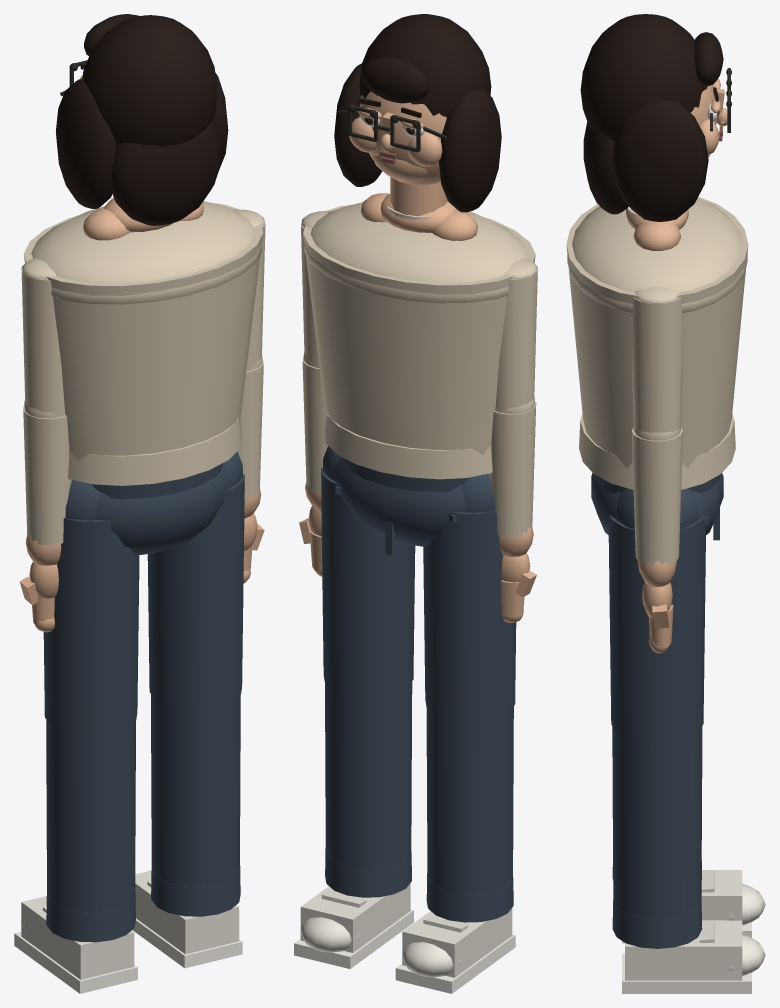
Rendered from female_1.glb.
3 views of the same model, side by side, from view 1: azimuth 30°, elevation 25°; view 2: azimuth 150°, elevation 25°; view 3: azimuth 270°, elevation 25° (orthographic). The views are drawn at different scales.
Parts seen in each view (by area): view 1: Mesh_Torso, Mesh_Hair, Mesh_ThighR, Mesh_ShinR, Mesh_ShinL, Mesh_ThighL, Mesh_Pelvis, Mesh_LowerArmR, Mesh_UpperArmR, Mesh_FootR, Mesh_FootL, Mesh_LowerArmL (+6 smaller); view 2: Mesh_Torso, Mesh_Hair, Mesh_ShinR, Mesh_ShinL, Mesh_ThighR, Mesh_ThighL, Mesh_Pelvis, Mesh_LowerArmR, Mesh_Head, Mesh_UpperArmR, Mesh_Neck, Mesh_ToeL (+8 smaller); view 3: Mesh_Torso, Mesh_Hair, Mesh_ShinL, Mesh_ThighL, Mesh_UpperArmL, Mesh_LowerArmL, Mesh_FootL, Mesh_ToeL, Mesh_ToeR, Mesh_Pelvis, Mesh_HandL, Mesh_Neck (+1 smaller).
Part boxes in pixels (x1,y1,x2,y2): Mesh_Torso: [23, 197, 263, 485]; Mesh_Hair: [55, 14, 228, 225]; Mesh_ThighR: [43, 480, 139, 734]; Mesh_ShinR: [46, 720, 135, 942]; Mesh_ShinL: [151, 694, 240, 916]; Mesh_ThighL: [147, 451, 244, 708]; Mesh_Pelvis: [91, 462, 231, 554]; Mesh_LowerArmR: [23, 400, 71, 565]; Mesh_UpperArmR: [21, 258, 64, 416]; Mesh_FootR: [14, 926, 137, 993]; Mesh_FootL: [132, 900, 242, 968]; Mesh_LowerArmL: [237, 355, 263, 518]; Mesh_Torso: [303, 202, 535, 479]; Mesh_Hair: [334, 14, 501, 212]; Mesh_ShinR: [426, 706, 513, 922]; Mesh_ShinL: [325, 681, 412, 897]; Mesh_ThighR: [423, 473, 516, 720]; Mesh_ThighL: [321, 446, 415, 695]; Mesh_Pelvis: [333, 456, 469, 555]; Mesh_LowerArmR: [489, 396, 536, 556]; Mesh_Head: [349, 91, 446, 185]; Mesh_UpperArmR: [495, 258, 537, 410]; Mesh_Neck: [361, 177, 477, 240]; Mesh_ToeL: [300, 888, 377, 952]; Mesh_Torso: [566, 197, 748, 489]; Mesh_Hair: [580, 14, 723, 221]; Mesh_ShinL: [612, 727, 702, 948]; Mesh_ThighL: [608, 488, 706, 743]; Mesh_UpperArmL: [632, 287, 682, 432]; Mesh_LowerArmL: [631, 428, 682, 586]; Mesh_FootL: [622, 941, 751, 993]; Mesh_ToeL: [691, 920, 765, 980]; Mesh_ToeR: [701, 870, 765, 925]; Mesh_Pelvis: [591, 473, 723, 540]; Mesh_HandL: [642, 582, 673, 653]; Mesh_Neck: [626, 208, 688, 250].
Bounding box in the file's own units: 0.4775 × 1.81 × 0.3496.
